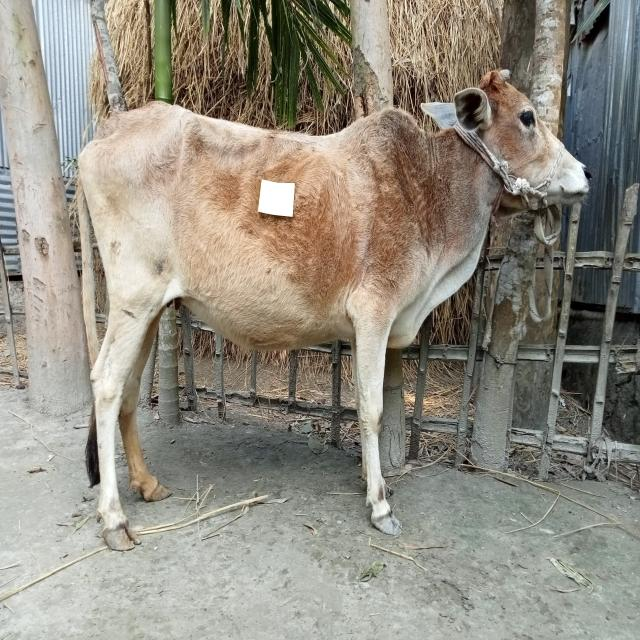badan_sapi: (101, 115, 398, 345)
sapi: (75, 62, 590, 560)
